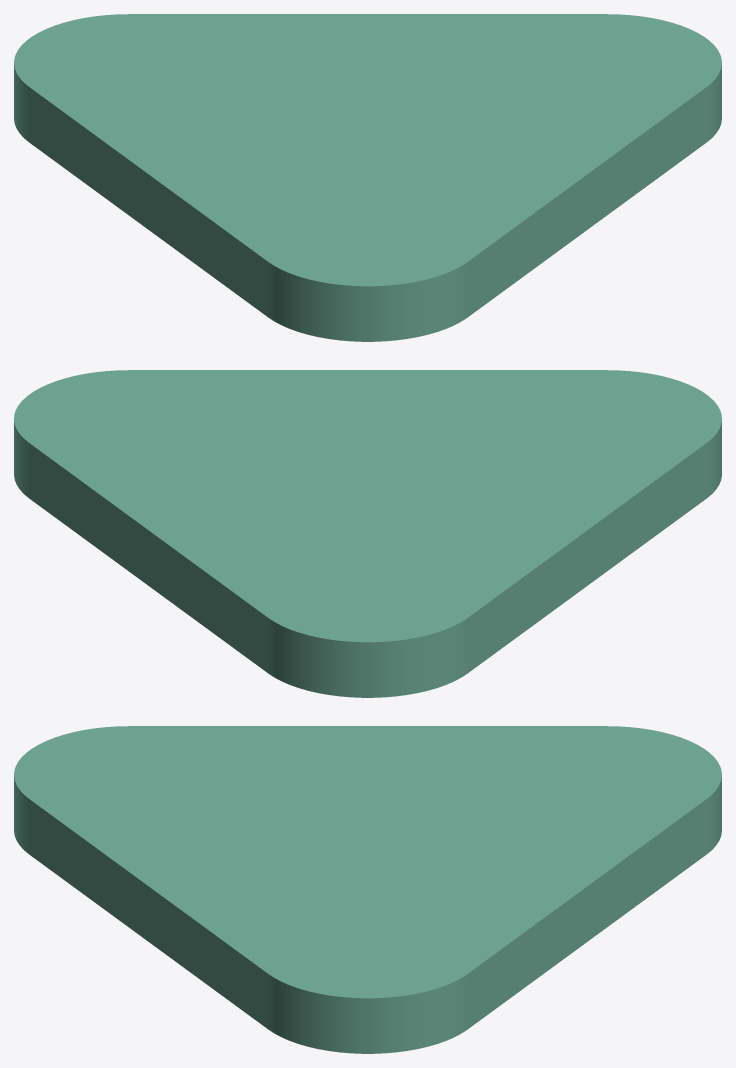
File: step_13.glb
3 views of the same model, one above another, from view 1: azimuth 30°, elevation 25°; view 2: azimuth 150°, elevation 25°; view 3: azimuth 270°, elevation 25° (orthographic).
Parts seen in each view (by area): view 1: part__carrier; view 2: part__carrier; view 3: part__carrier.
Boxes of the visible parts, left/top/right/bottom form: part__carrier: left=14, top=14, right=721, bottom=341; part__carrier: left=14, top=370, right=721, bottom=697; part__carrier: left=14, top=726, right=721, bottom=1053.
Size of the model in its own units: 41.99 by 4 by 46.17.
